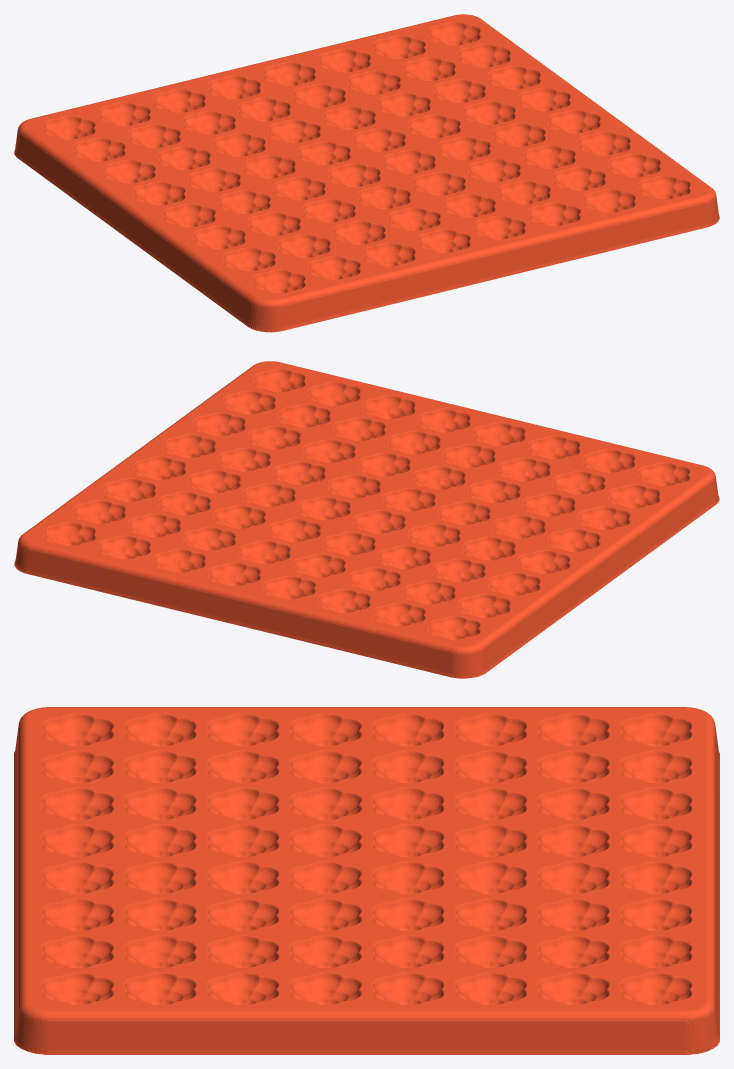
The model's file is mold.glb.
3 renders of one model, top to bottom at view 1: azimuth 30°, elevation 25°; view 2: azimuth 150°, elevation 25°; view 3: azimuth 270°, elevation 25°, orthographic. The views are drawn at different scales.
Parts seen in each view (by area): view 1: geometry_0; view 2: geometry_0; view 3: geometry_0.
Boxes of the visible parts, bbox=[...] form: geometry_0: bbox=[14, 14, 719, 332]; geometry_0: bbox=[14, 361, 719, 678]; geometry_0: bbox=[14, 707, 719, 1054].
Size of the model in its own units: 0.1886 by 0.0107 by 0.1788.
